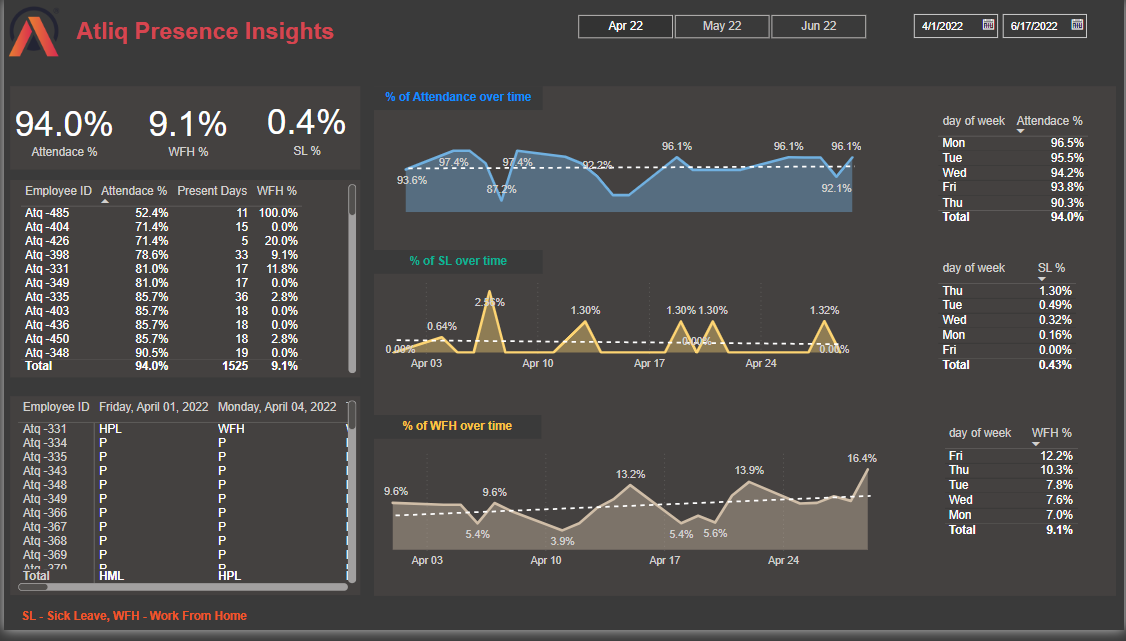

What the dashboard file says about the page in this screenshot:
{"tool":"powerbi","page":{"name":"Presence Insights","canvas":[1280,720],"ordinal":0},"visuals":[{"type":"textbox","box":[7.8,205.6,399.9,225.5],"z":0},{"type":"textbox","box":[7.8,453.3,399.8,227.6],"z":1000},{"type":"textbox","box":[422.3,97.9,848.1,582.3],"z":2000},{"type":"textbox","box":[7.8,98,399.9,95.4],"z":3000},{"type":"tableEx","fields":{"Values":["Final Data.Employee ID","Measures (2).Attendace %","Measures (2).Present Days","Measures (2).WFH %"]},"box":[12.6,205.2,394.9,225.7],"z":4000},{"type":"slicer","fields":{"Values":["Final Data.Date"]},"box":[1027.3,5.2,252.7,46.3],"z":5000},{"type":"slicer","fields":{"Values":["Final Data.MMM YY"]},"box":[630.4,10.5,379.5,35.8],"z":6000},{"type":"areaChart","fields":{"Category":["Final Data.MMM YY","Final Data.Date"],"Y":["Measures (2).WFH %"]},"box":[420.7,502.3,589,153.5],"z":7000},{"type":"areaChart","fields":{"Category":["Final Data.WeekNo","Final Data.Date"],"Y":["Measures (2).Attendace %"]},"box":[444.1,144.9,540.4,103.2],"z":8000},{"type":"card","fields":{"Values":["Measures (2).Attendace %"]},"box":[7.8,98,124,96.3],"z":9000},{"type":"card","fields":{"Values":["Measures (2).WFH %"]},"box":[141.4,98,138.8,96.3],"z":10000},{"type":"areaChart","fields":{"Category":["Final Data.MMM YY","Final Data.Date"],"Y":["Measures (2).SL %"]},"box":[422.5,307.1,556,124],"z":11000},{"type":"image","box":[0,0,70,71],"z":12000},{"type":"card","fields":{"Values":["Measures (2).SL %"]},"box":[286.3,97.2,121.4,96.3],"z":13000},{"type":"textbox","box":[70.3,0,320.1,71.1],"z":14000},{"type":"textbox","box":[422.4,98.2,192.5,27.5],"z":15000},{"type":"textbox","box":[422.5,286.3,192.6,26.9],"z":16000},{"type":"textbox","box":[422.1,473.7,192.6,27.2],"z":17000},{"type":"pivotTable","fields":{"Rows":["Final Data.Employee ID"],"Columns":["Final Data.Date"],"Values":["Min(Final Data.Value)"]},"box":[11.7,453.3,395.9,227.6],"z":18000},{"type":"textbox","box":[13.6,691.6,289.8,28.2],"z":19000},{"type":"tableEx","fields":{"Values":["Final Data.day of week","Measures (2).Attendace %"]},"box":[1060.9,125.8,209.9,145.7],"z":20000},{"type":"tableEx","fields":{"Values":["Final Data.day of week","Measures (2).SL %"]},"box":[1060.9,294.1,191.7,167.4],"z":21000},{"type":"tableEx","fields":{"Values":["Final Data.day of week","Measures (2).WFH %"]},"box":[1068.7,483.2,170,167.4],"z":22000}]}

Visuals, with their boxes in screenshot pixels (x1, y1, x2, y2), scaled from the page's 1280x720 canvas onto the 1126x641 screenshot:
textbox: Rect(7, 183, 359, 384)
textbox: Rect(7, 404, 359, 606)
textbox: Rect(371, 87, 1118, 606)
textbox: Rect(7, 87, 359, 172)
tableEx - Final Data.Employee ID x Measures (2).Attendace %: Rect(11, 183, 358, 384)
slicer - Final Data.Date: Rect(904, 5, 1125, 46)
slicer - Final Data.MMM YY: Rect(555, 9, 888, 41)
areaChart - Final Data.MMM YY x Final Data.Date: Rect(370, 447, 888, 584)
areaChart - Final Data.WeekNo x Final Data.Date: Rect(391, 129, 866, 221)
card - Measures (2).Attendace %: Rect(7, 87, 116, 173)
card - Measures (2).WFH %: Rect(124, 87, 246, 173)
areaChart - Final Data.MMM YY x Final Data.Date: Rect(372, 273, 861, 384)
image: Rect(0, 0, 62, 63)
card - Measures (2).SL %: Rect(252, 87, 359, 172)
textbox: Rect(62, 0, 343, 63)
textbox: Rect(372, 87, 541, 112)
textbox: Rect(372, 255, 541, 279)
textbox: Rect(371, 422, 541, 446)
pivotTable - Final Data.Employee ID x Final Data.Date: Rect(10, 404, 359, 606)
textbox: Rect(12, 616, 267, 640)
tableEx - Final Data.day of week x Measures (2).Attendace %: Rect(933, 112, 1118, 242)
tableEx - Final Data.day of week x Measures (2).SL %: Rect(933, 262, 1102, 411)
tableEx - Final Data.day of week x Measures (2).WFH %: Rect(940, 430, 1090, 579)
